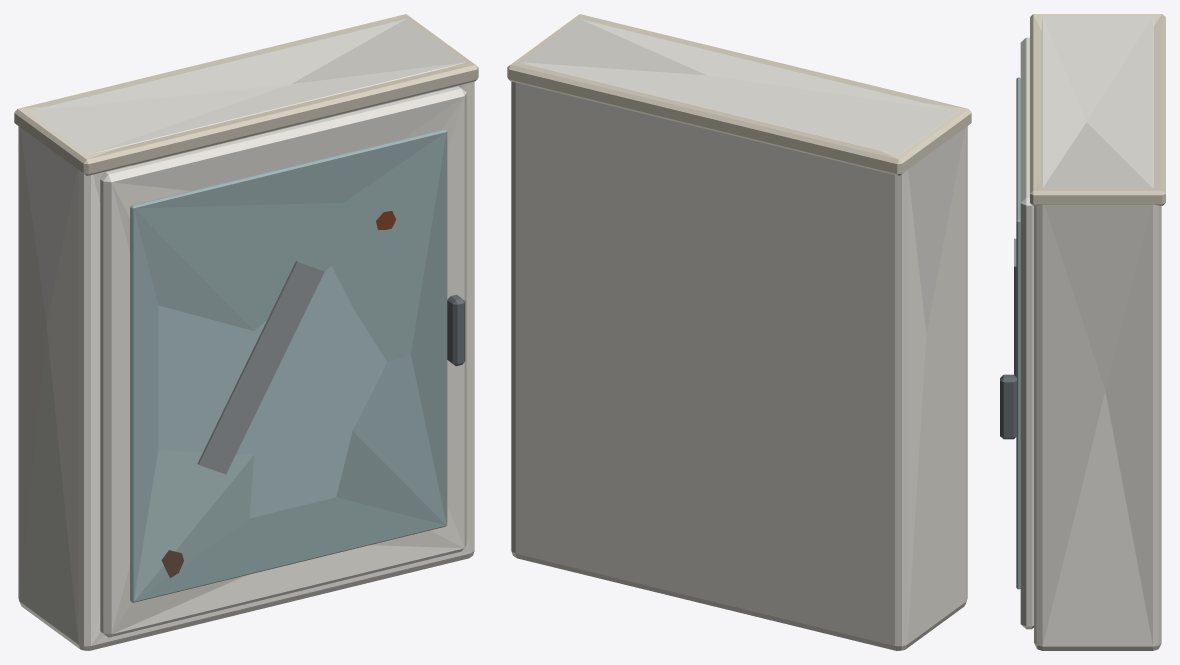
Rendered from medicine_cabinet_vannyy_idle.glb.
3 views of the same model, side by side, from view 1: azimuth 30°, elevation 25°; view 2: azimuth 150°, elevation 25°; view 3: azimuth 270°, elevation 25° (orthographic). The views are drawn at different scales.
Visible parts, largest first — view 1: medicine_cabinet_vannyy_idle; view 2: medicine_cabinet_vannyy_idle; view 3: medicine_cabinet_vannyy_idle.
Part boxes in pixels (x1,y1,x2,y2): medicine_cabinet_vannyy_idle: (14,14,478,650); medicine_cabinet_vannyy_idle: (507,14,971,650); medicine_cabinet_vannyy_idle: (1000,14,1165,650).
Bounding box in the file's own units: 0.5 × 0.6 × 0.195.
1 material, 1 textured.
